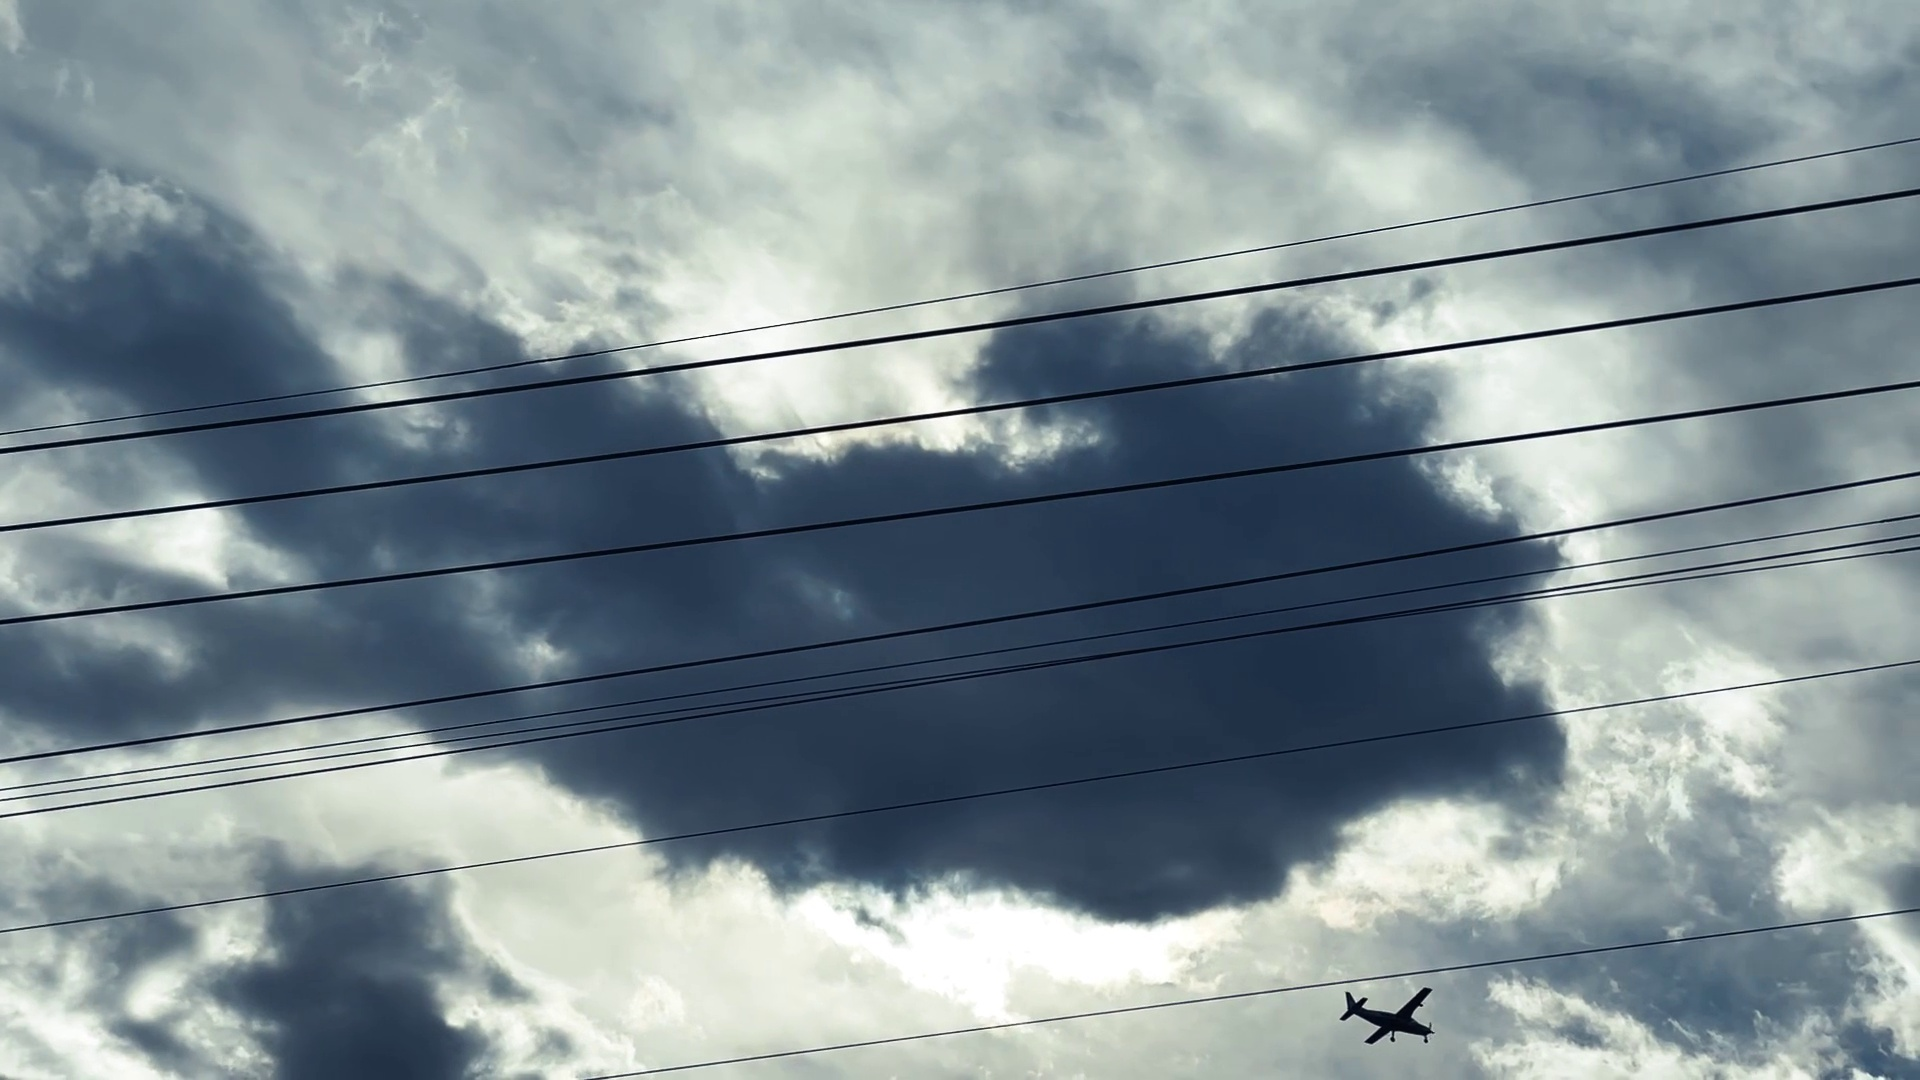plane: (1338, 986, 1437, 1044)
